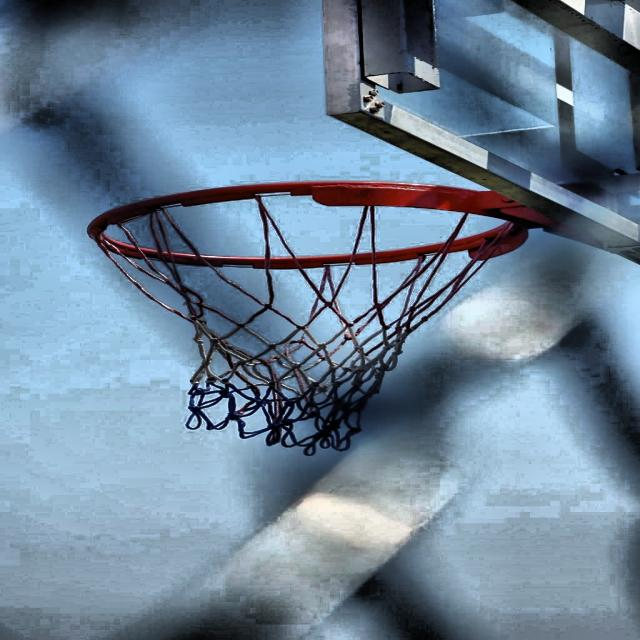rim: (93, 180, 533, 455)
